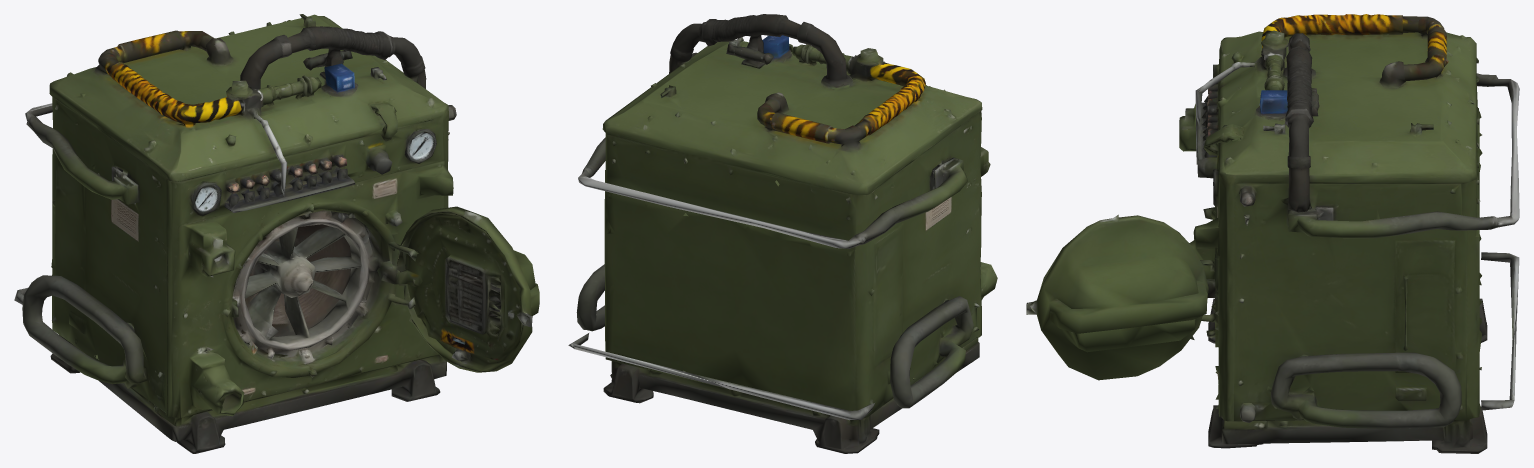
File: shuttle_oxygen_generator.glb
3 views of the same model, side by side, from view 1: azimuth 30°, elevation 25°; view 2: azimuth 150°, elevation 25°; view 3: azimuth 270°, elevation 25° (orthographic). The views are drawn at different scales.
Visible parts, largest first — view 1: tripo_node_aafd4b16-3dfe-4b46-b011-724c69e7cf4c; view 2: tripo_node_aafd4b16-3dfe-4b46-b011-724c69e7cf4c; view 3: tripo_node_aafd4b16-3dfe-4b46-b011-724c69e7cf4c.
Boxes of the visible parts, left/top/right/bottom form: tripo_node_aafd4b16-3dfe-4b46-b011-724c69e7cf4c: left=14, top=14, right=539, bottom=453; tripo_node_aafd4b16-3dfe-4b46-b011-724c69e7cf4c: left=568, top=14, right=997, bottom=453; tripo_node_aafd4b16-3dfe-4b46-b011-724c69e7cf4c: left=1026, top=14, right=1519, bottom=453.
Size of the model in its own units: 0.8117 by 0.7852 by 0.9792.
Materials: 1 (1 with a texture image).
